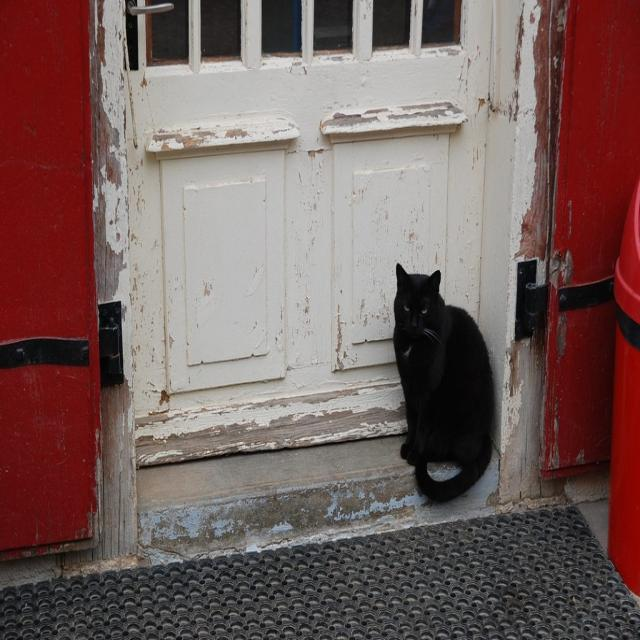Cat: (390, 260, 494, 506)
